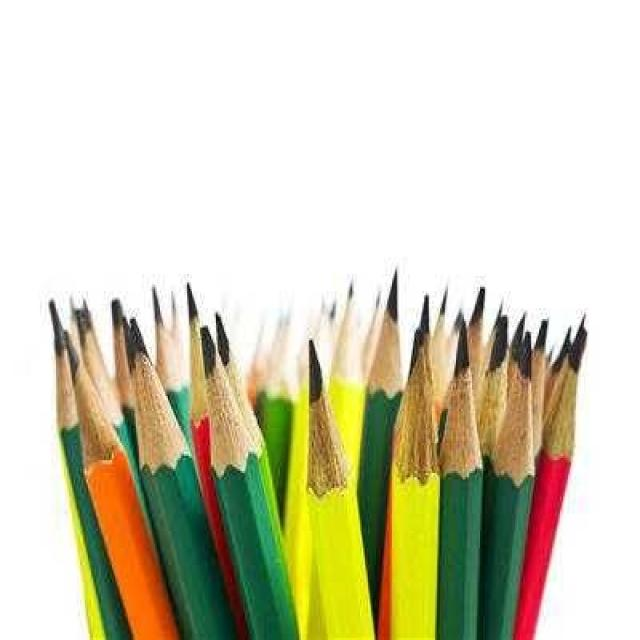pencil: (120, 299, 252, 638), (59, 327, 195, 638), (195, 306, 306, 638), (293, 306, 381, 638), (507, 330, 596, 638), (435, 306, 497, 638), (384, 274, 440, 638), (356, 255, 409, 607)
